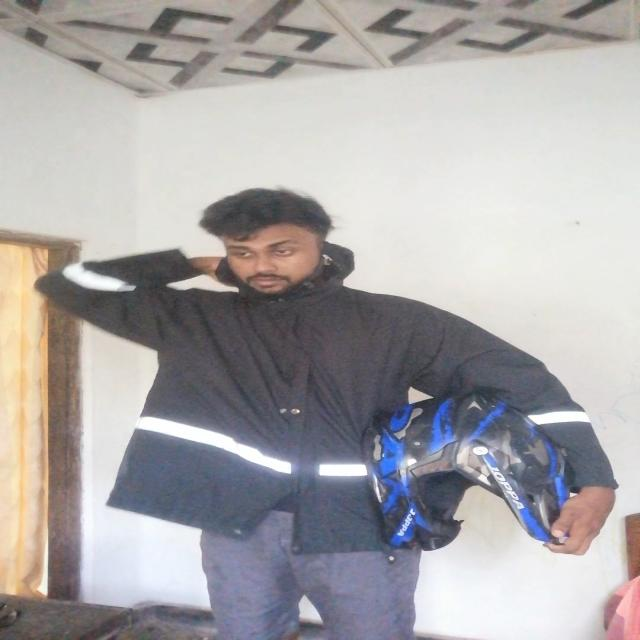Jacket_Wearer: (43, 252, 622, 563)
Person: (56, 180, 624, 632)
